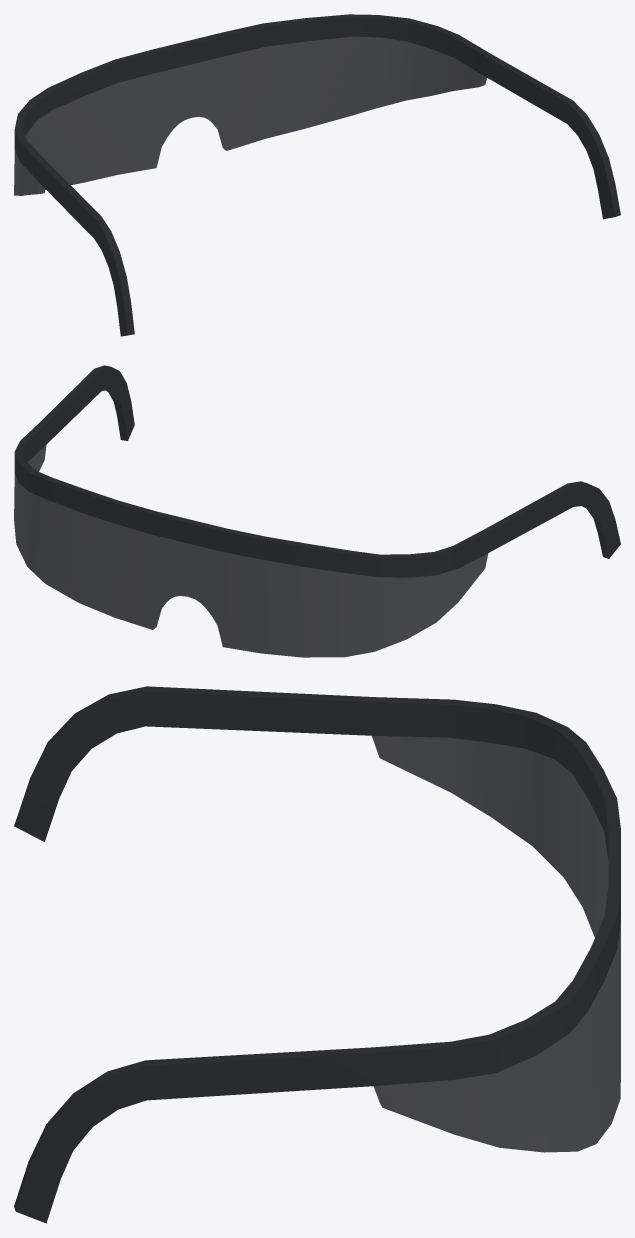
3 renders of one model, top to bottom at view 1: azimuth 30°, elevation 25°; view 2: azimuth 150°, elevation 25°; view 3: azimuth 270°, elevation 25°, orthographic. The views are drawn at different scales.
Parts seen in each view (by area): view 1: Sunglass; view 2: Sunglass; view 3: Sunglass.
Part boxes in pixels (x1=…): Sunglass: x1=14, y1=14, x2=620, y2=336; Sunglass: x1=14, y1=365, x2=620, y2=657; Sunglass: x1=14, y1=686, x2=620, y2=1223.
Bounding box in the file's own units: 0.2074 × 0.0467 × 0.1363.
1 material, 1 textured.
